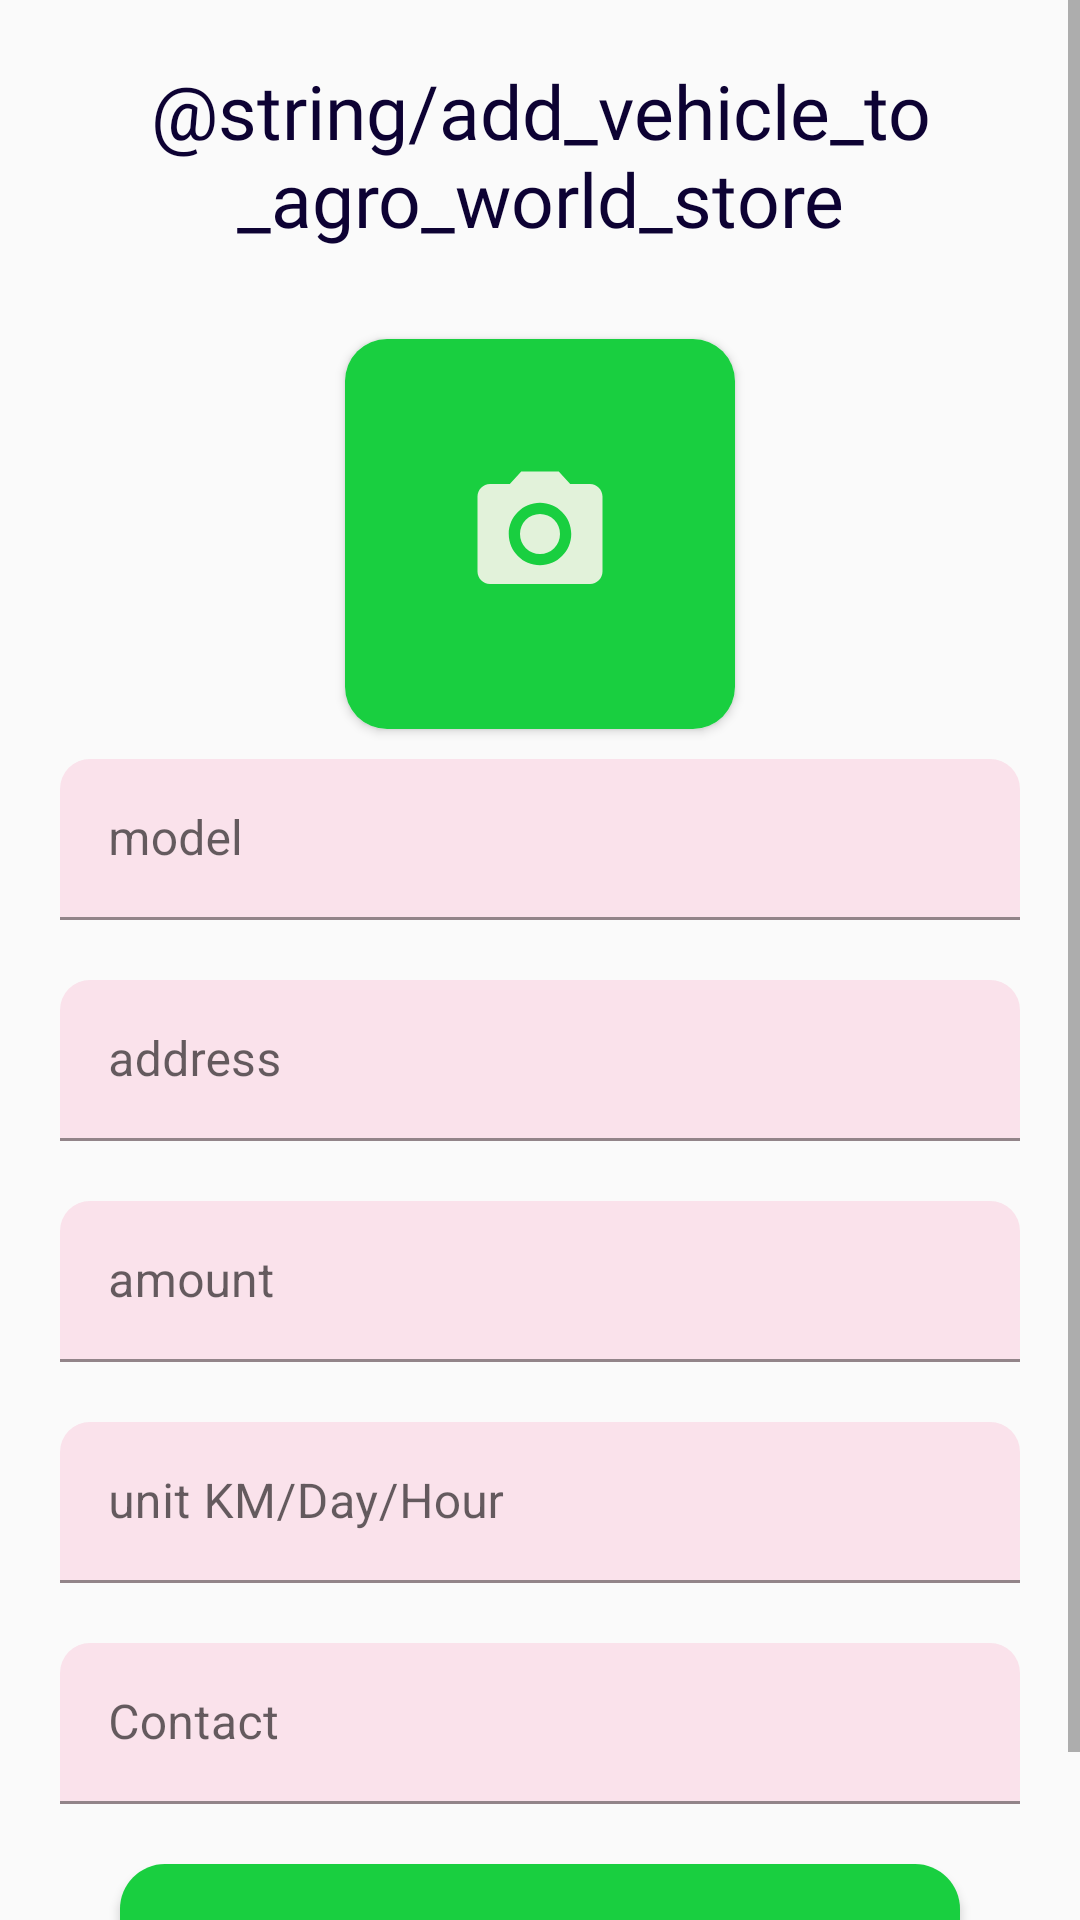

Icon click points for this 1080x1920 phone screenshot, format point (x, y):
photo camera: point (540, 527)
